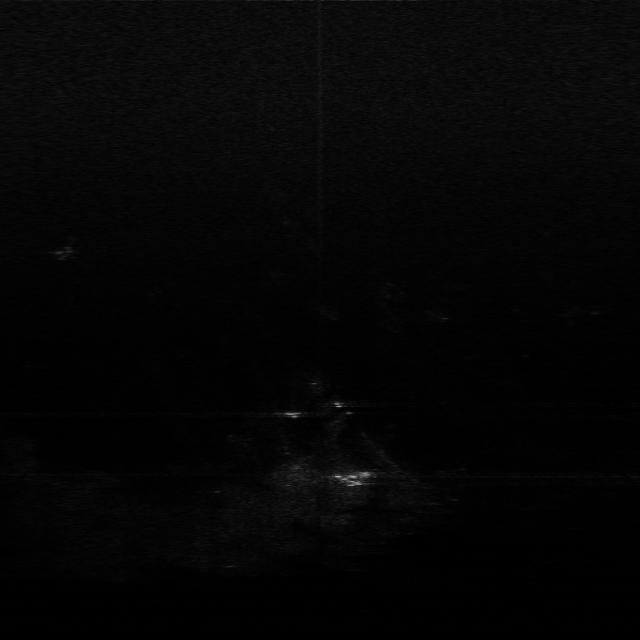rov: (331, 466, 373, 491)
